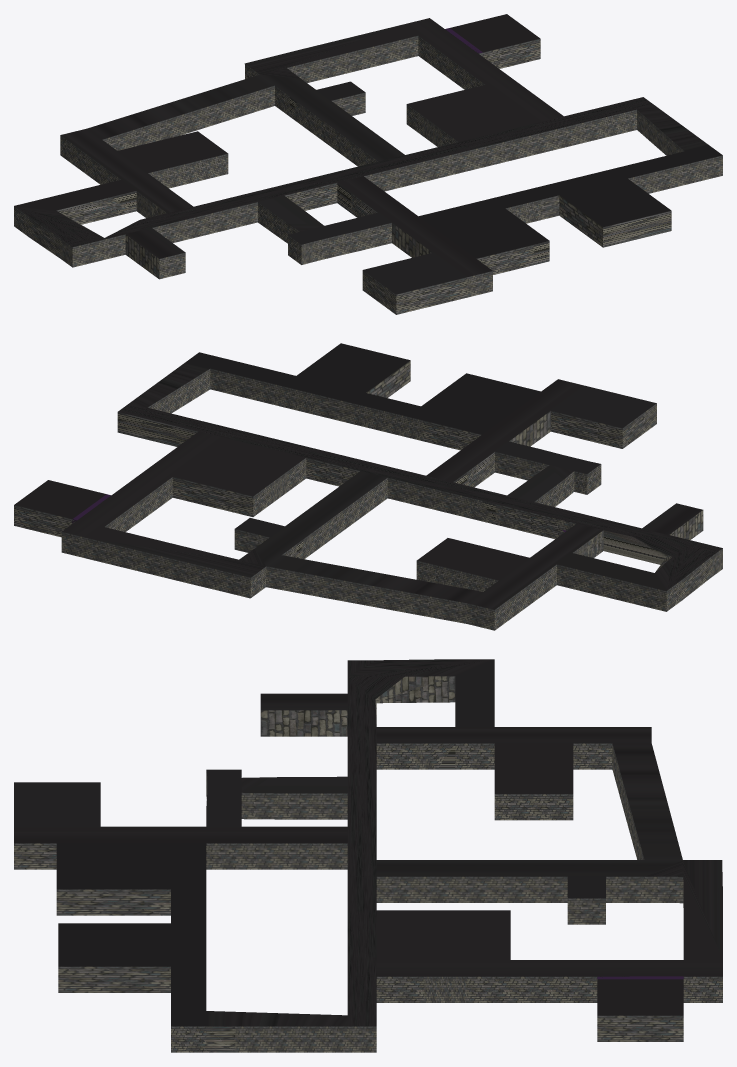
File: Labirin.fbx
3 renders of one model, top to bottom at view 1: azimuth 30°, elevation 25°; view 2: azimuth 150°, elevation 25°; view 3: azimuth 270°, elevation 25°, orthographic. The views are drawn at different scales.
Visible parts, largest first — view 1: Labirin; view 2: Labirin; view 3: Labirin.
Boxes of the visible parts, x1,y1,x2,y2 form: Labirin: (14,14,722,314); Labirin: (14,343,722,630); Labirin: (14,659,722,1052).
Size of the model in its own units: 5983 by 207 by 4882.
